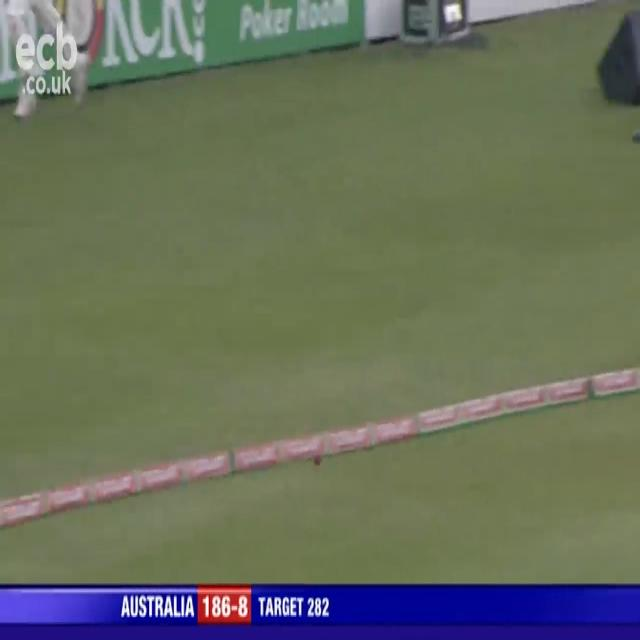ball: (310, 447, 324, 470)
